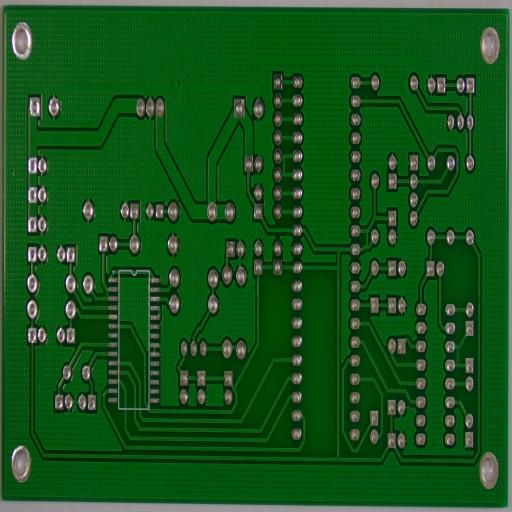short_circuit: (275, 149, 291, 182), (451, 341, 463, 371), (362, 223, 371, 250), (104, 285, 111, 301)
